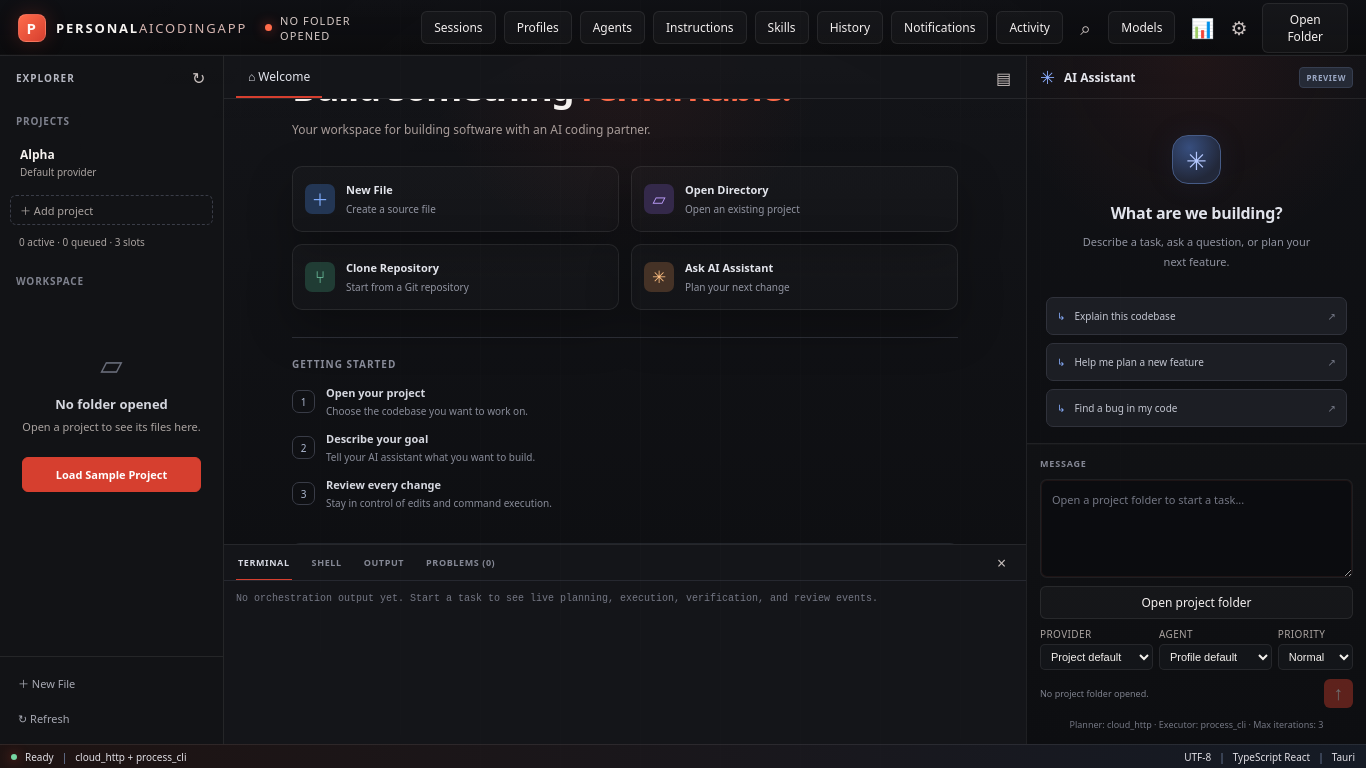
Test: Model preferences and token usage UI › loads model preferences from backend and saves backend-returned preferences
This screenshot has width=1366, height=768.
Check: the text "Alpha" is shown, box [20,146,55,163]
What coordinates should you click on to do the following:
click the button "Models"
I would click on:
 (1142, 28)
Its box is [1108,11,1175,44].
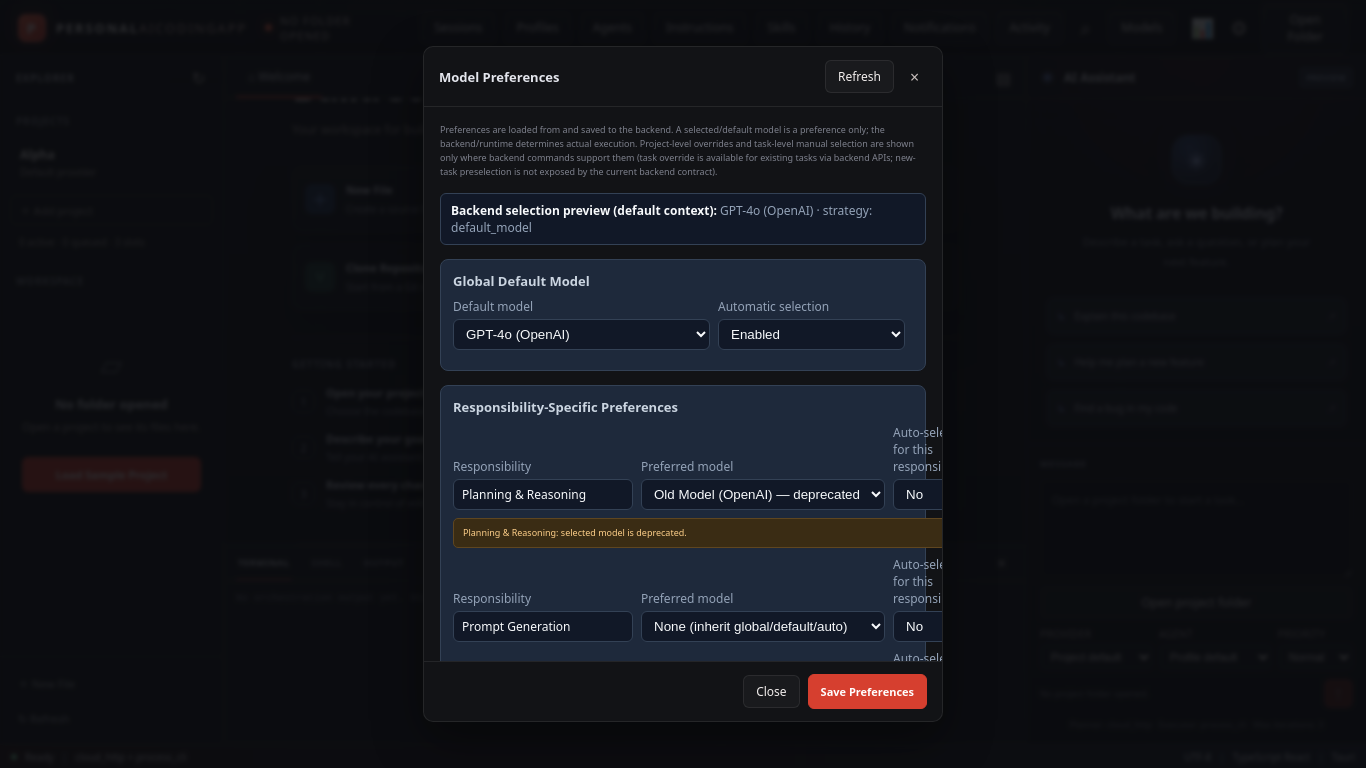
Check: the heading "Model Preferences" is shown, box [439,68,560,86]
Check: the text "Backend selection preview (default context):" is shown, box [451,202,717,219]
Check: the text "GPT-4o" is shown, box [720,202,760,219]
What coordinates should you click on to do the following:
click the button "Save Preferences"
I would click on:
 (867, 691)
Its box is [808,674,927,709].
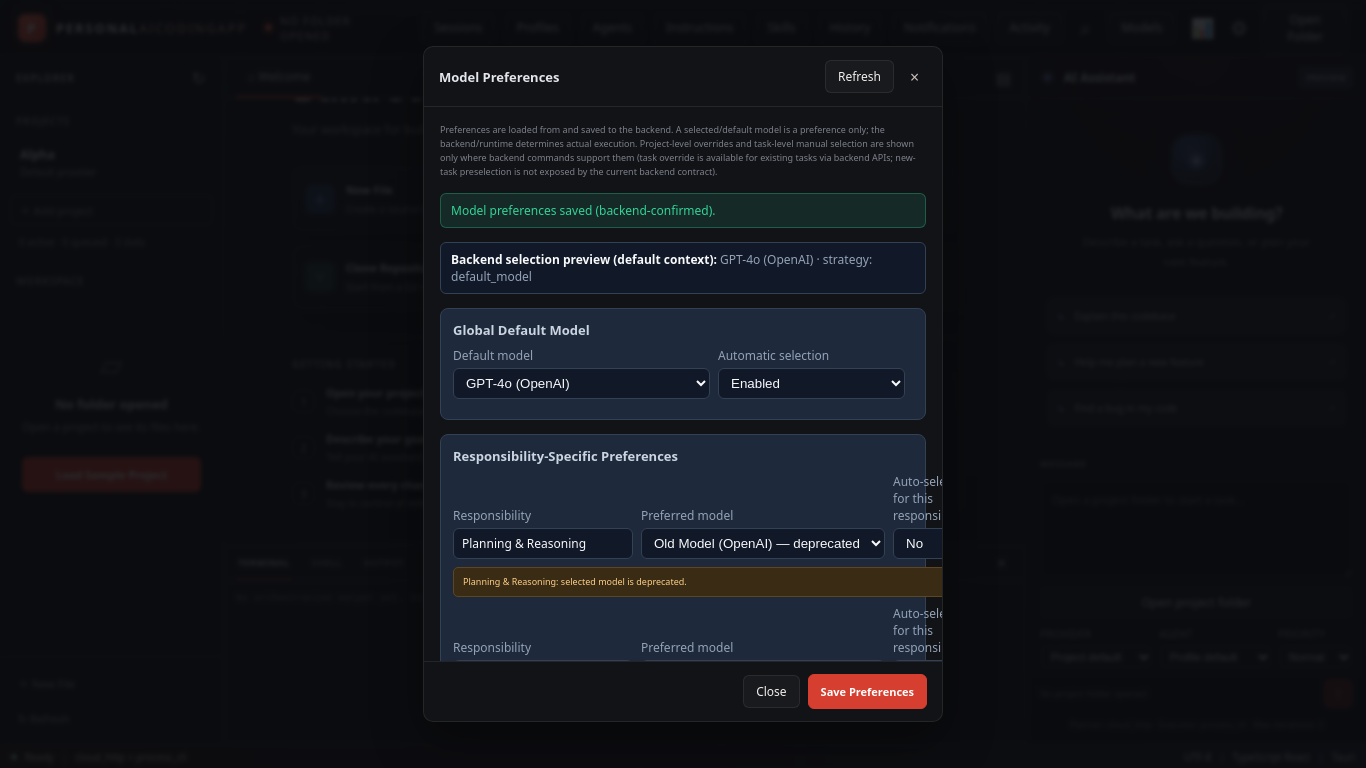
Check: the message shows "backend-confirmed", box [451,202,716,219]
